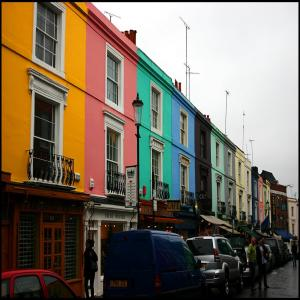Vehicle-registration-plate: (111, 281, 128, 288)
